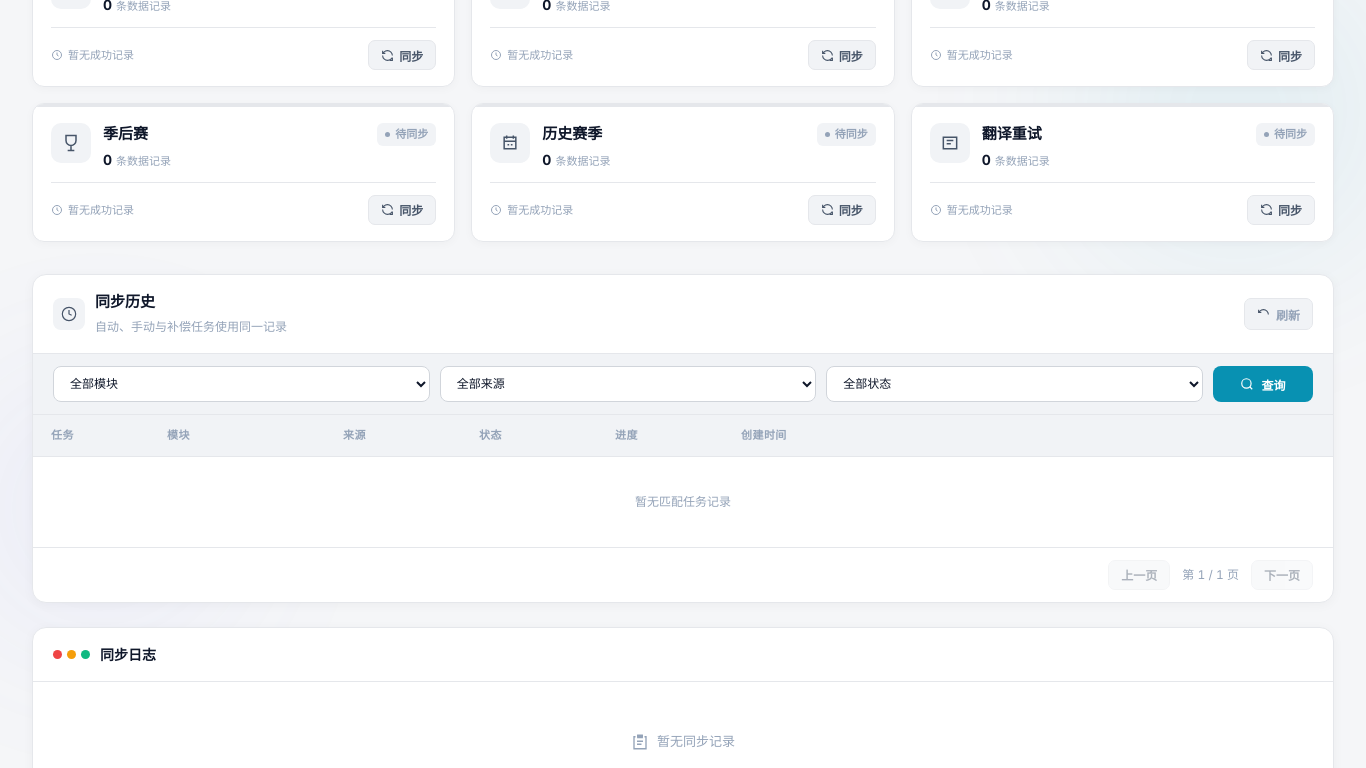
Test case: DataSyncView task lifecycle › ignores old history responses after a newer filter query has completed
Click the button with class "history-query": {"x": 1263, "y": 384} [1213,366,1313,402]
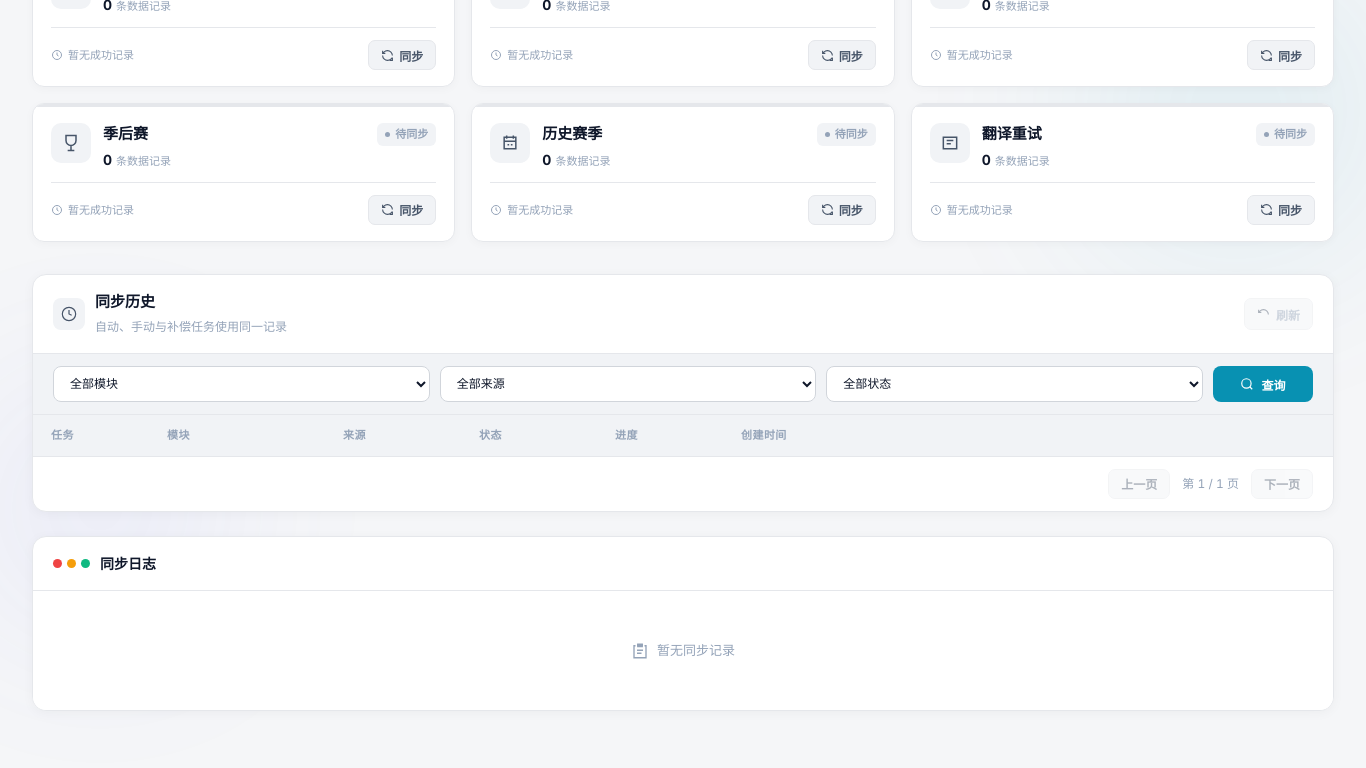
Select "球员数据" in the dropdown named "模块筛选": {"x": 241, "y": 384} [53,366,430,402]
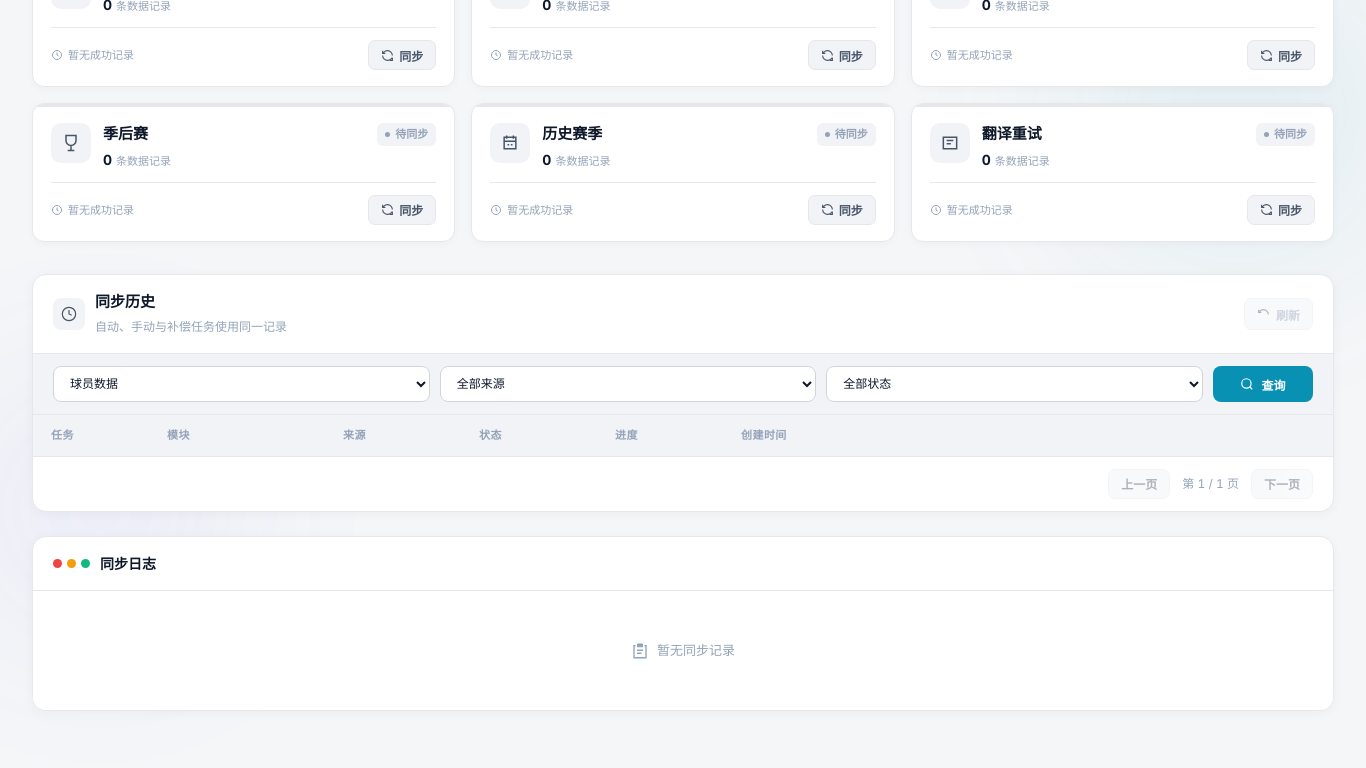
Click the button with class "history-query": {"x": 1263, "y": 384} [1213,366,1313,402]
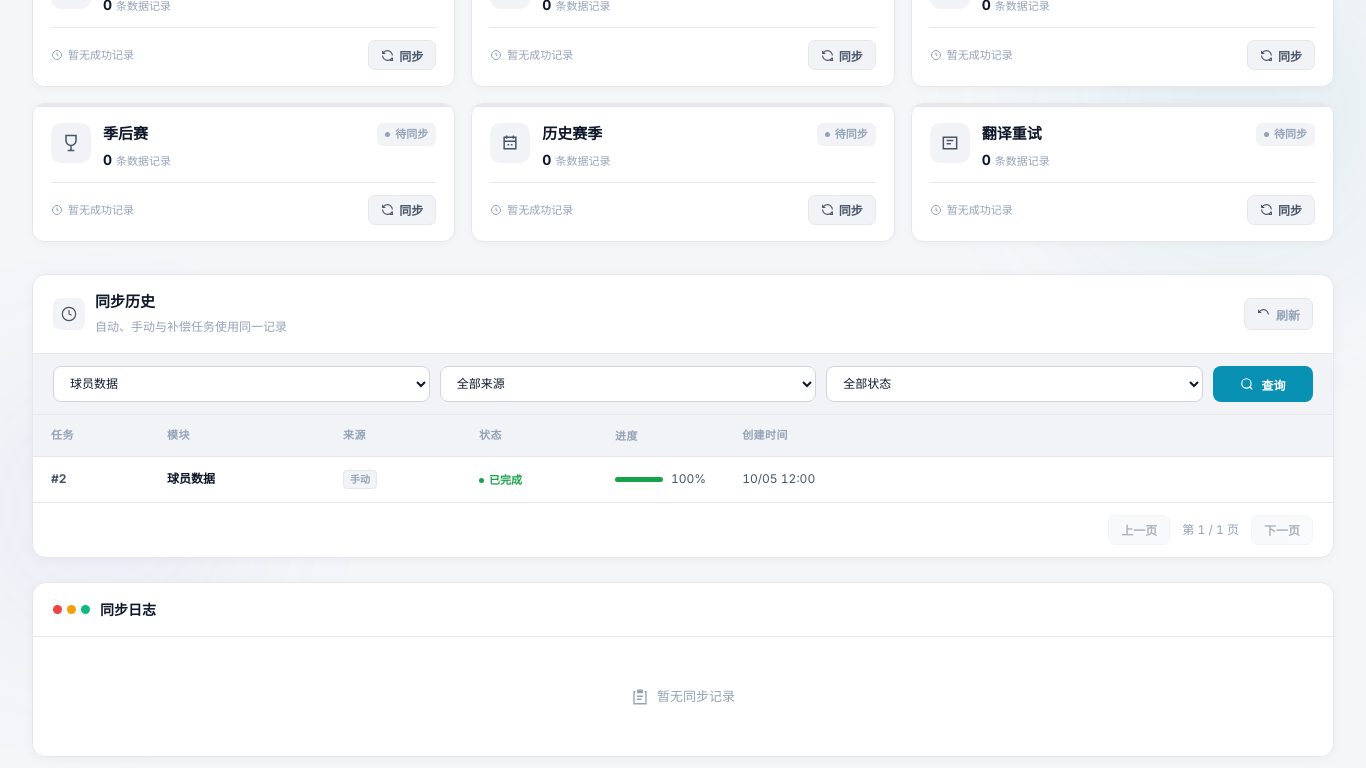
expect the table with class "history-table" shows "#2": met, box [51,471,66,486]
